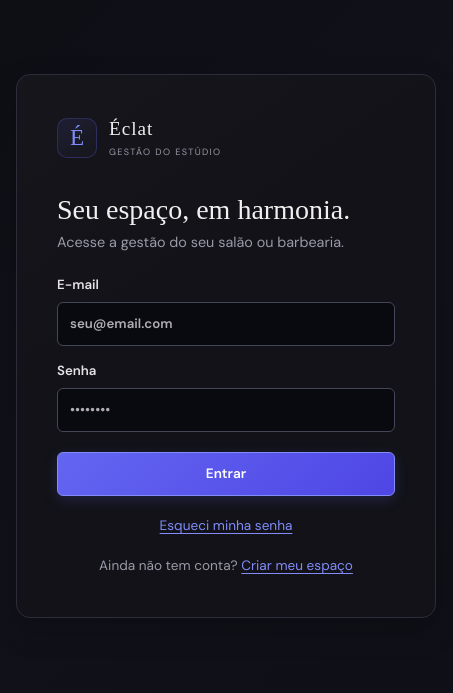
Test case: LoginPage › mostra mensagem de erro quando o login falha
The width and height of the screenshot is (453, 693).
In the field labelled "E-mail": (226, 324) [57,302,395,346], type "dona@salao.com"
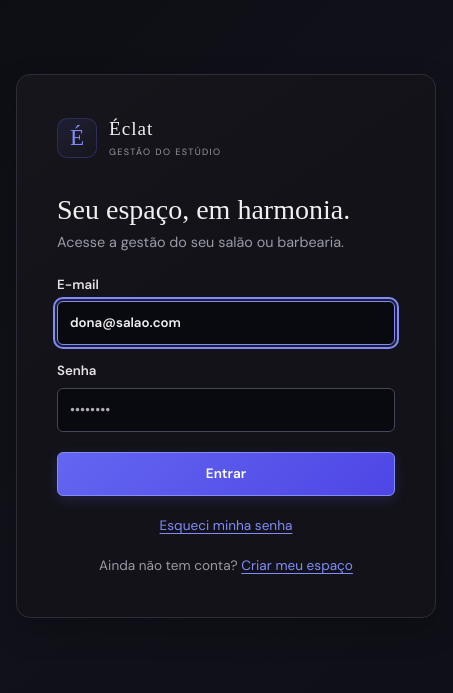
In the password field labelled "Senha": (226, 410) [57,388,395,432], type "errada"
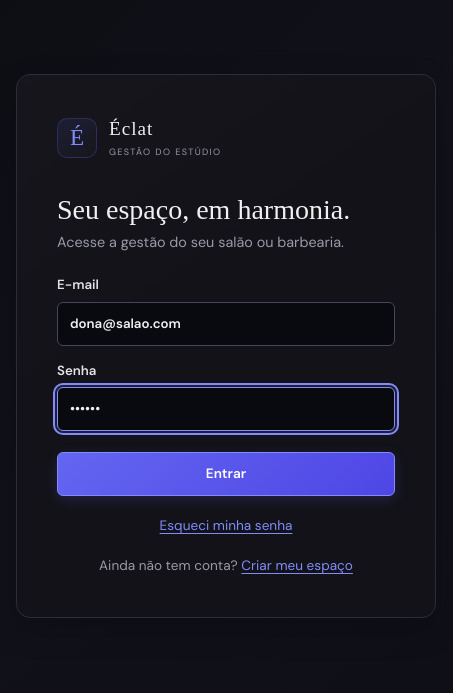
Click the button "Entrar": (226, 474) [57,452,395,496]
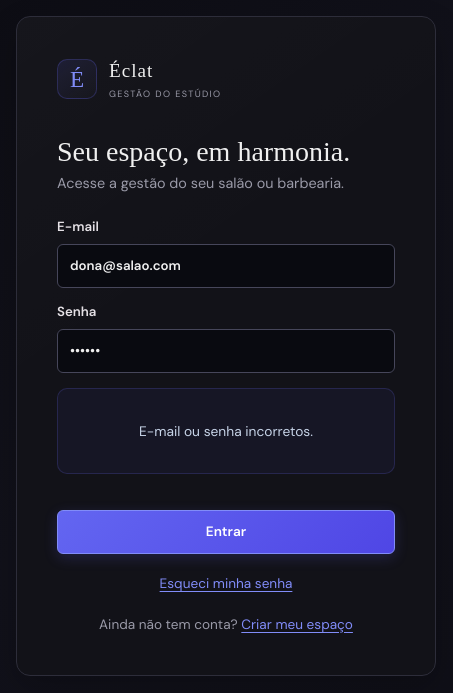
Expected: the message reads "E-mail ou senha incorretos.", [139,422,313,440]
